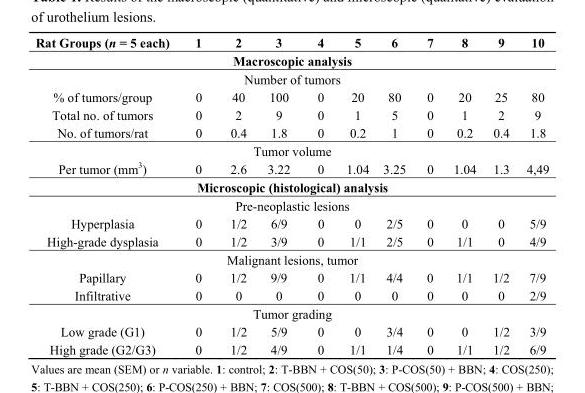table: (34, 34, 548, 356)
table column: (34, 34, 181, 356), (256, 34, 303, 356), (215, 34, 256, 356), (334, 34, 375, 356), (442, 34, 483, 356), (375, 34, 415, 356), (181, 34, 215, 356), (483, 34, 517, 356), (303, 34, 334, 356), (517, 34, 548, 356), (415, 34, 442, 356)
table column header: (34, 34, 548, 51)
table projected row header: (34, 177, 548, 196), (34, 51, 548, 69), (34, 69, 548, 87), (34, 196, 548, 214), (34, 250, 548, 268), (34, 304, 548, 322), (34, 141, 548, 158)
table row: (34, 158, 548, 177), (34, 177, 548, 196), (34, 51, 548, 69), (34, 69, 548, 87), (34, 87, 548, 105), (34, 105, 548, 123), (34, 123, 548, 141), (34, 196, 548, 214), (34, 214, 548, 232), (34, 232, 548, 250), (34, 250, 548, 268), (34, 268, 548, 286), (34, 286, 548, 304), (34, 304, 548, 322), (34, 322, 548, 340), (34, 34, 548, 51), (34, 141, 548, 158), (34, 340, 548, 356)
